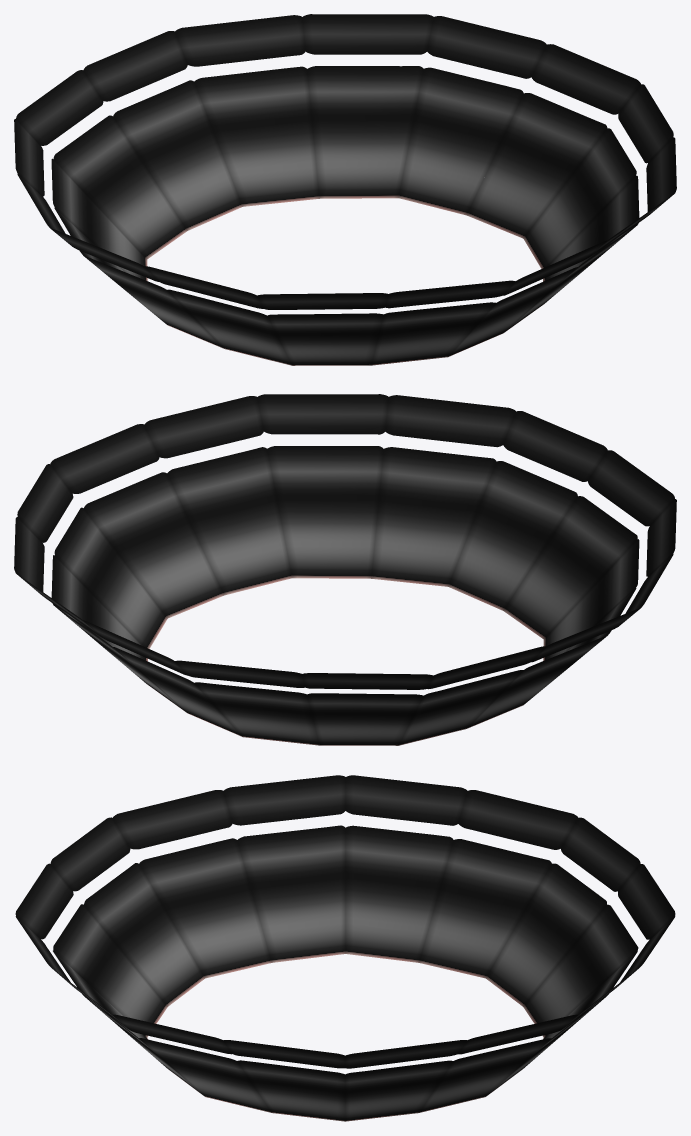
The picture shows the model from 3 angles, top to bottom: view 1: azimuth 30°, elevation 25°; view 2: azimuth 150°, elevation 25°; view 3: azimuth 270°, elevation 25°; orthographic projection. The views are drawn at different scales.
Parts seen in each view (by area): view 1: T1L2M007_28; view 2: T1L2M007_28; view 3: T1L2M007_28.
Boxes of the visible parts, bbox=[...] form: T1L2M007_28: bbox=[14, 14, 676, 365]; T1L2M007_28: bbox=[14, 394, 676, 745]; T1L2M007_28: bbox=[15, 775, 675, 1121].
Bounding box in the file's own units: 2.87 × 0.5947 × 2.87.
1 material, 1 textured.
